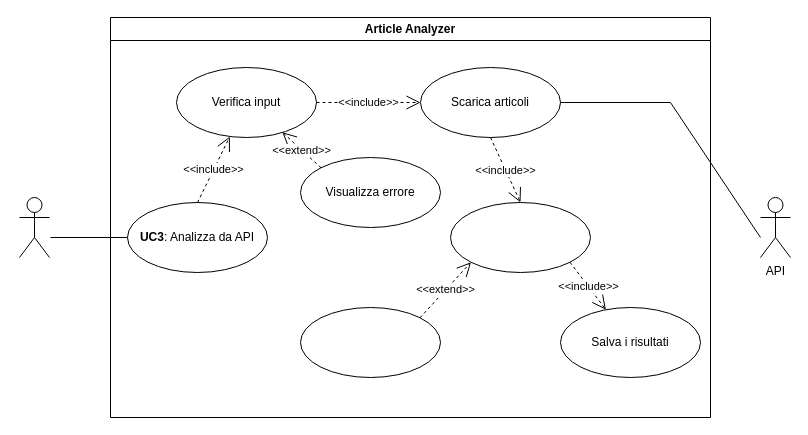
Image size: 808x435. Some labels were removed from this diagram. The centre of each missing label's shape, as x and y in pixels:
Confronta con blacklist: the point at 370,342
Estrai e visualizza termini più importanti: the point at 520,237
Utente: the point at 34,227
